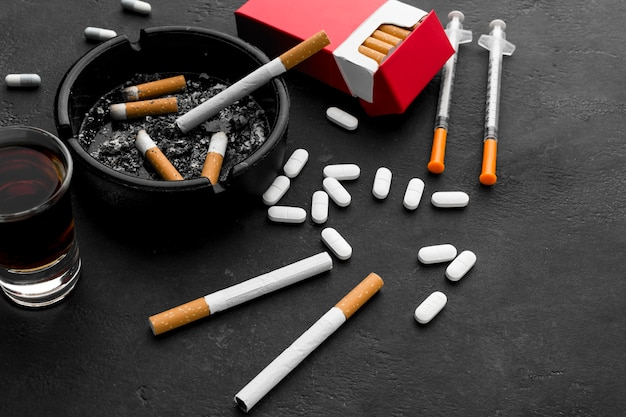alcohol: (2, 123, 86, 310)
cigarette: (237, 0, 458, 114), (231, 269, 387, 412), (147, 251, 338, 336), (174, 28, 330, 130), (136, 128, 186, 183), (200, 131, 229, 186), (121, 75, 188, 98), (110, 98, 180, 114), (362, 37, 396, 56), (371, 29, 404, 48), (358, 45, 387, 66), (378, 23, 411, 39)
